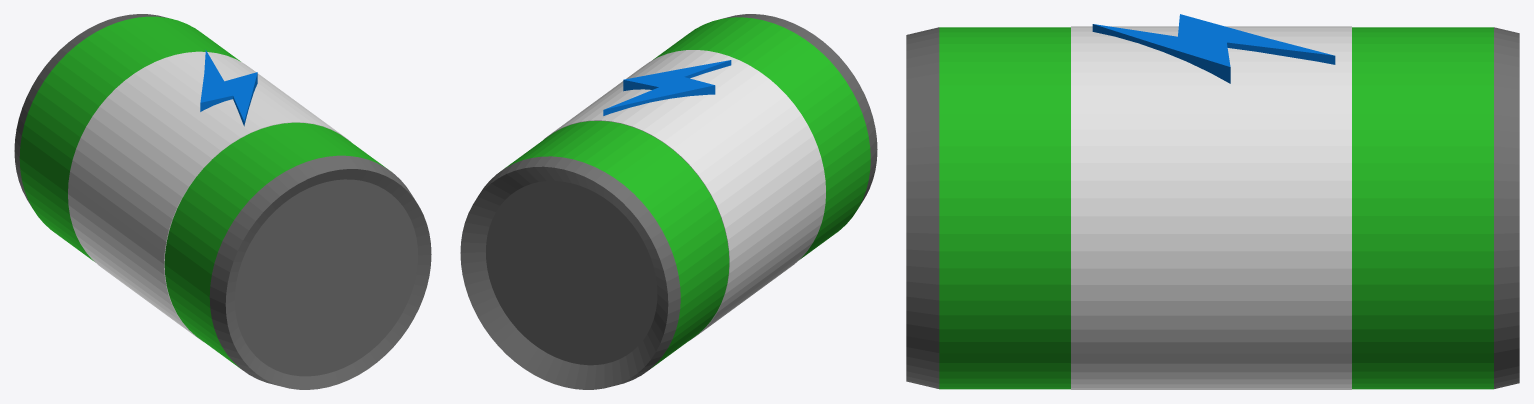
The model's file is EnergyDrinkIcon.fbx.
3 renders of one model, left to right at view 1: azimuth 30°, elevation 25°; view 2: azimuth 150°, elevation 25°; view 3: azimuth 270°, elevation 25°, orthographic. The views are drawn at different scales.
Visible parts, largest first — view 1: Cube.001; view 2: Cube.001; view 3: Cube.001.
Part boxes in pixels (bbox=[...]): Cube.001: bbox=[14, 14, 431, 389]; Cube.001: bbox=[460, 14, 877, 389]; Cube.001: bbox=[906, 14, 1519, 389].
Size of the model in its own units: 117 by 119 by 198.
